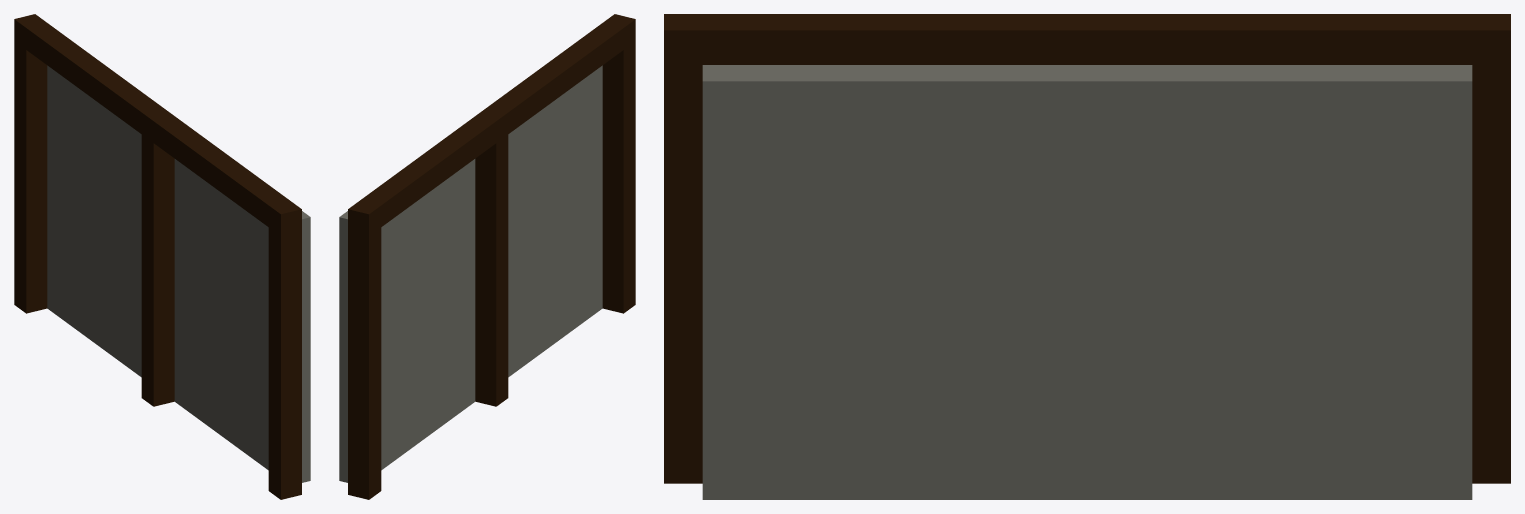
Rendered from HouseWall1.glb.
3 views of the same model, side by side, from view 1: azimuth 30°, elevation 25°; view 2: azimuth 150°, elevation 25°; view 3: azimuth 270°, elevation 25° (orthographic). The views are drawn at different scales.
Parts seen in each view (by area): view 1: HouseWall; view 2: HouseWall; view 3: HouseWall.
Part boxes in pixels (bbox=[...]): HouseWall: bbox=[14, 14, 310, 499]; HouseWall: bbox=[339, 14, 635, 499]; HouseWall: bbox=[664, 14, 1510, 499].
Size of the model in its own units: 0.4 by 2.6 by 4.4.
